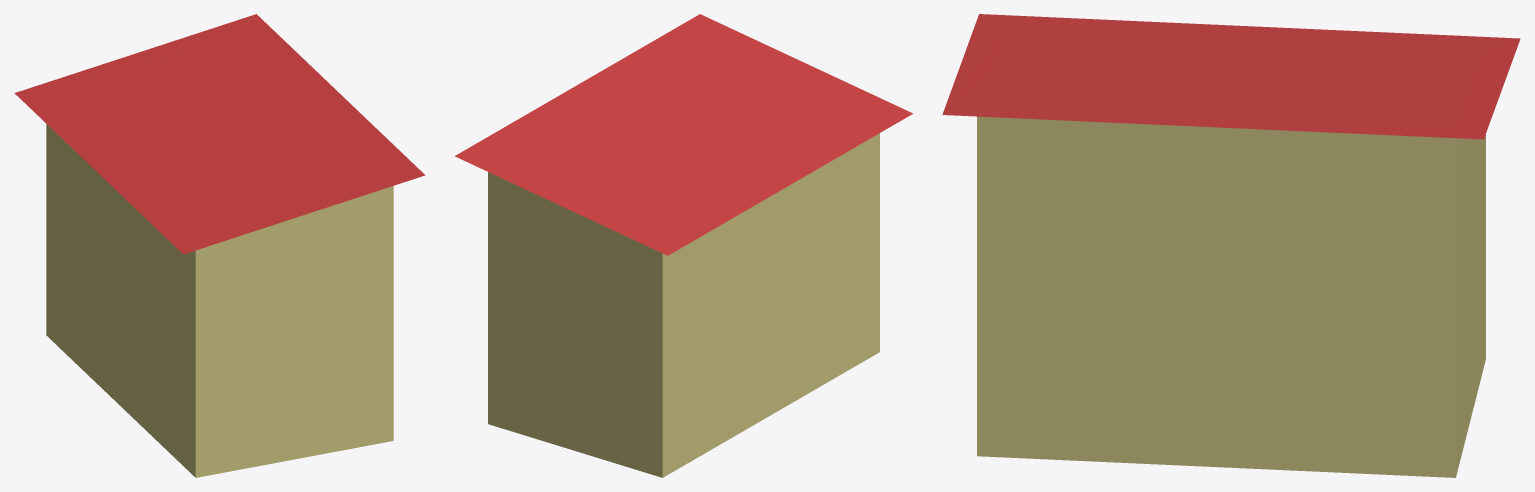
3 views of the same model, side by side, from view 1: azimuth 30°, elevation 25°; view 2: azimuth 150°, elevation 25°; view 3: azimuth 270°, elevation 25° (orthographic). The views are drawn at different scales.
Bounding box in the file's own units: 6.38 × 9.19 × 6.19.
